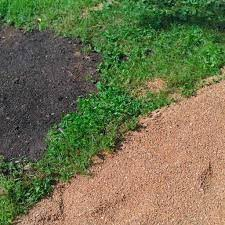dirt: (0, 26, 97, 161), (137, 74, 223, 223), (23, 166, 104, 222), (105, 132, 135, 224)
grass: (98, 2, 221, 82), (79, 84, 175, 129), (0, 0, 97, 41), (0, 162, 47, 222), (46, 130, 114, 171)
